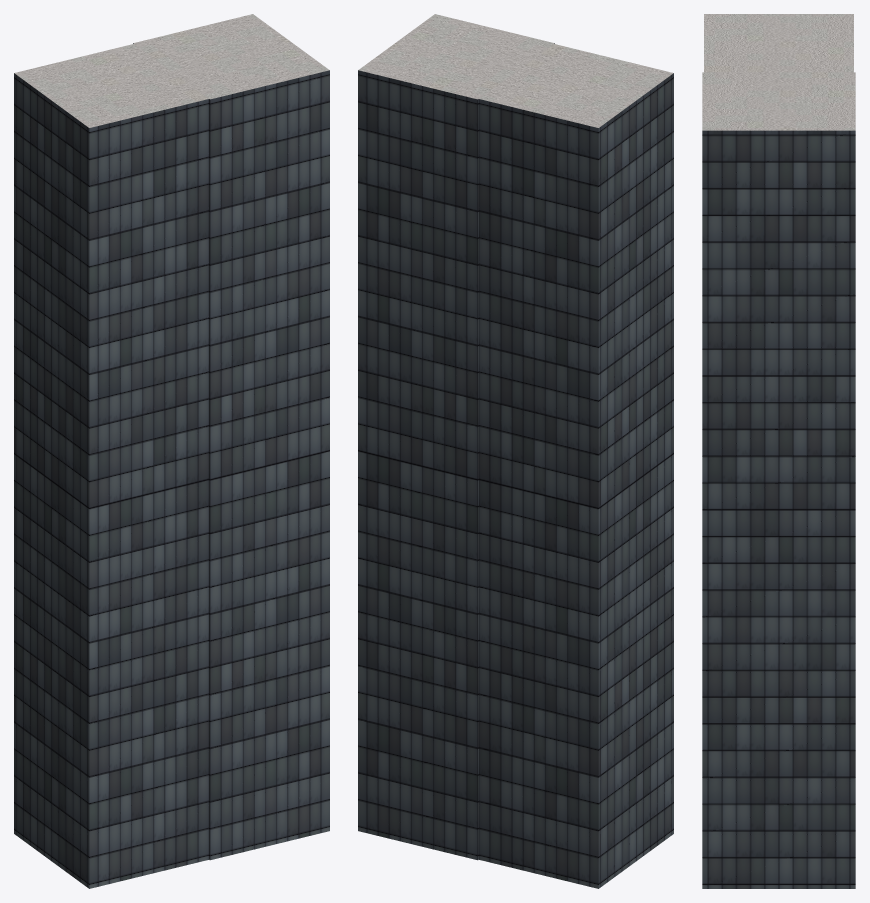
Rendered from building_009_002.glb.
3 renders of one model, left to right at view 1: azimuth 30°, elevation 25°; view 2: azimuth 150°, elevation 25°; view 3: azimuth 270°, elevation 25°, orthographic.
Visible parts, largest first — view 1: building_009.002; view 2: building_009.002; view 3: building_009.002.
Boxes of the visible parts, left/top/right/bottom form: building_009.002: left=14, top=14, right=329, bottom=888; building_009.002: left=358, top=14, right=673, bottom=888; building_009.002: left=702, top=14, right=855, bottom=888.
Bounding box in the file's own units: 1800 × 5460 × 1000.
Materials: 2 (2 with a texture image).
